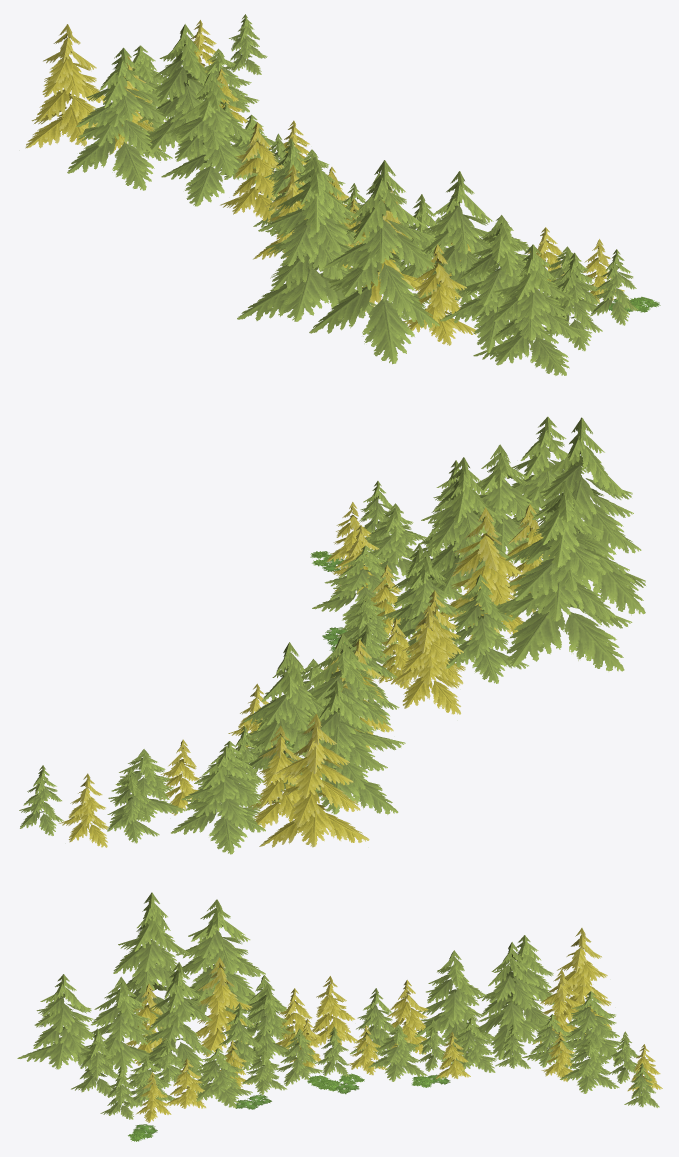
Rendered from area_03_9.FBX.
3 views of the same model, one above another, from view 1: azimuth 30°, elevation 25°; view 2: azimuth 150°, elevation 25°; view 3: azimuth 270°, elevation 25° (orthographic). The views are drawn at different scales.
Parts seen in each view (by area): view 1: area_03_9; view 2: area_03_9; view 3: area_03_9.
Boxes of the visible parts, x1,y1,x2,y2 form: area_03_9: (25, 14, 660, 375); area_03_9: (19, 416, 645, 854); area_03_9: (17, 892, 662, 1141).
Bounding box in the file's own units: 33.69 × 17.64 × 68.18.
